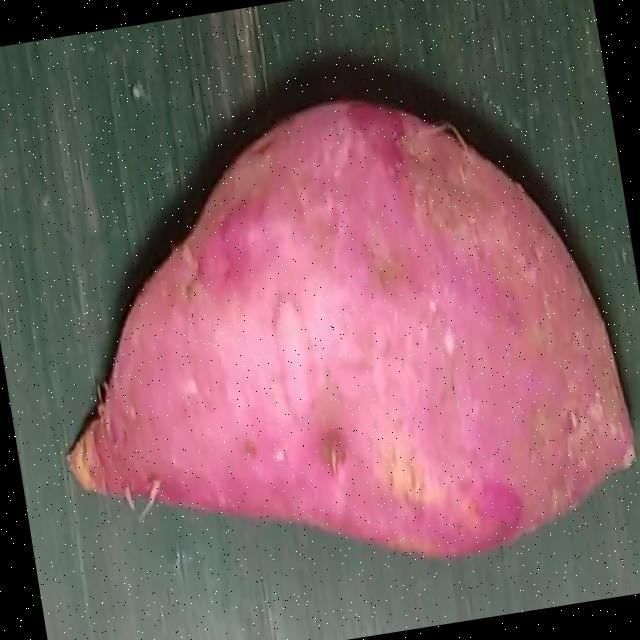Sweet Potato: (63, 99, 636, 561)
